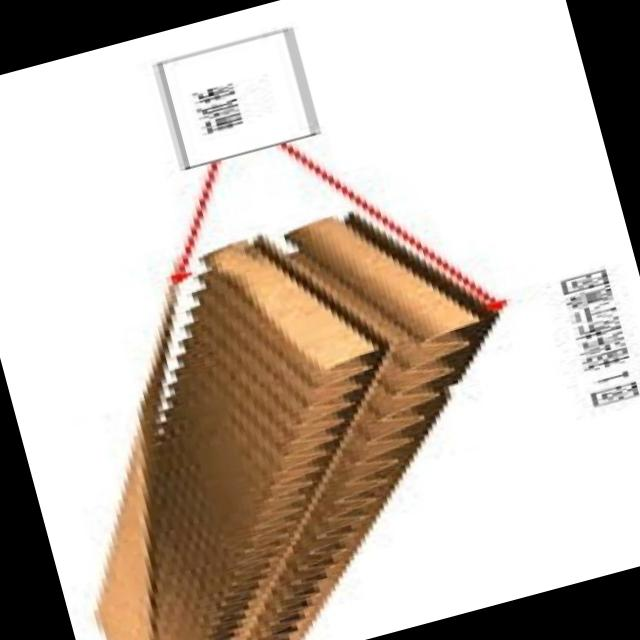cardboard paper: (94, 220, 492, 640)
